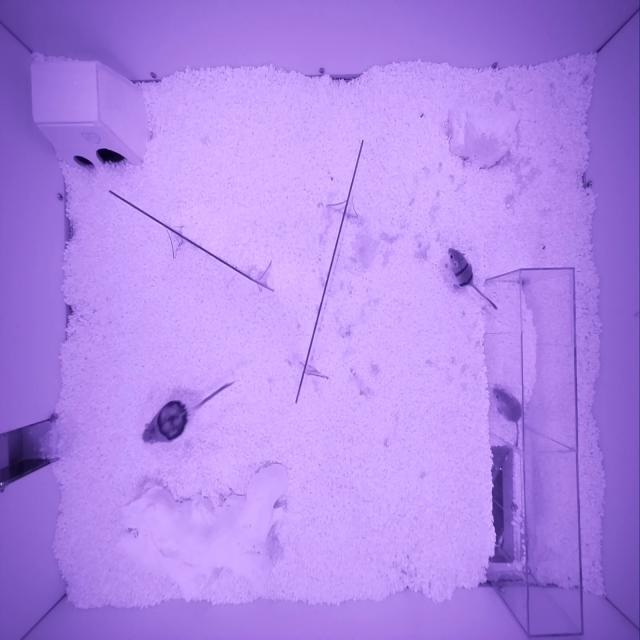adult_back: (141, 400, 192, 445)
pup_fluffy: (493, 386, 523, 424)
pup_h_stripe: (446, 247, 474, 287)
